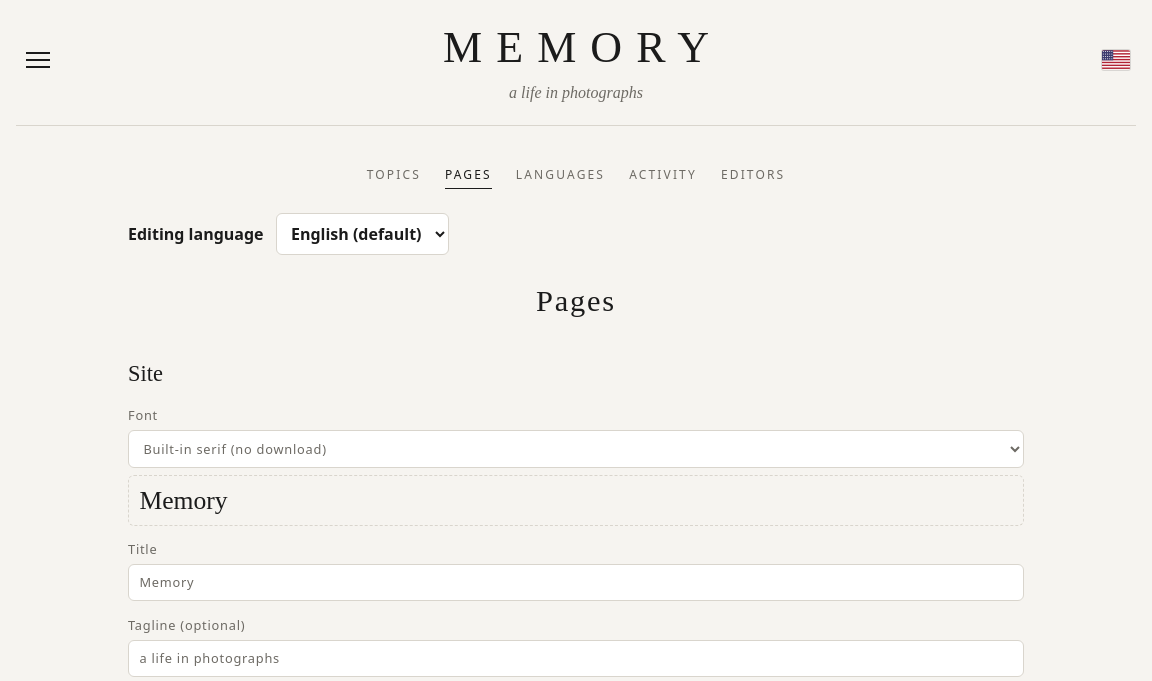
Test: languages › keeps a saved font this language would not offer, and clears it to the built-in serif
The image size is (1152, 681).
Expected: the navigation bar named "Back office" is shown, [367,166,785,189]
Select "עברית" in the dropdown labelled "Editing language": x=362, y=234 [276,213,449,255]
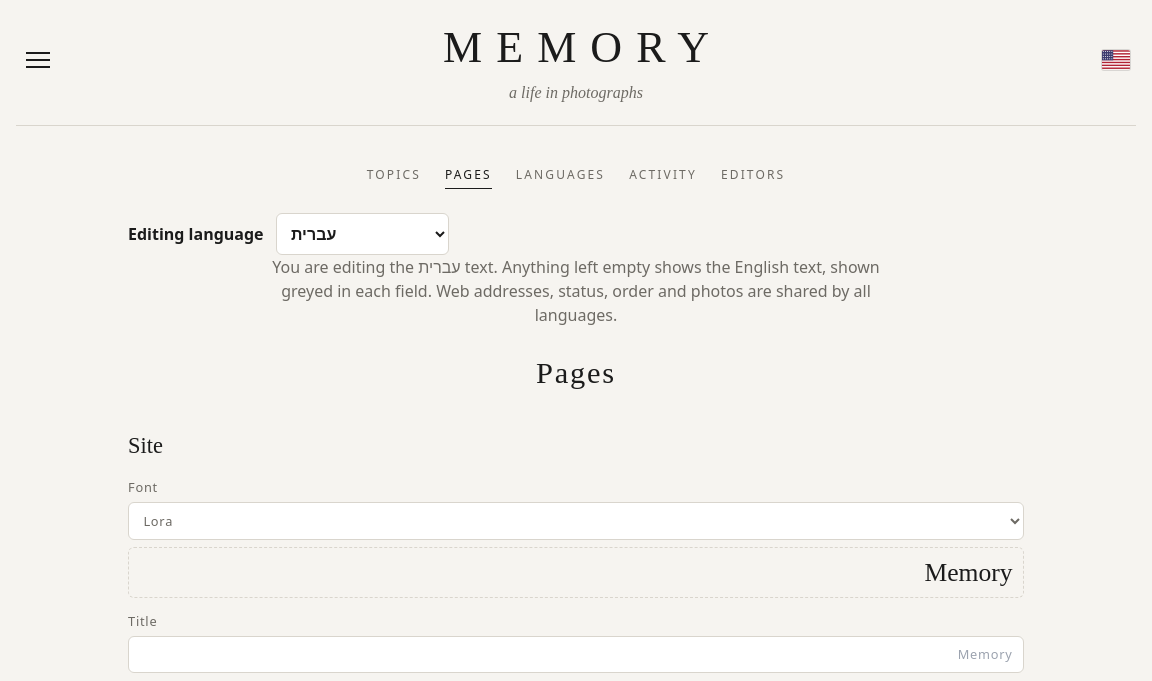
Expected: the dropdown labelled "Font" shows "Lora"
Select "Built-in serif (no download)" in the dropdown labelled "Font": x=576, y=521 [128,502,1024,540]
(page scrolled)
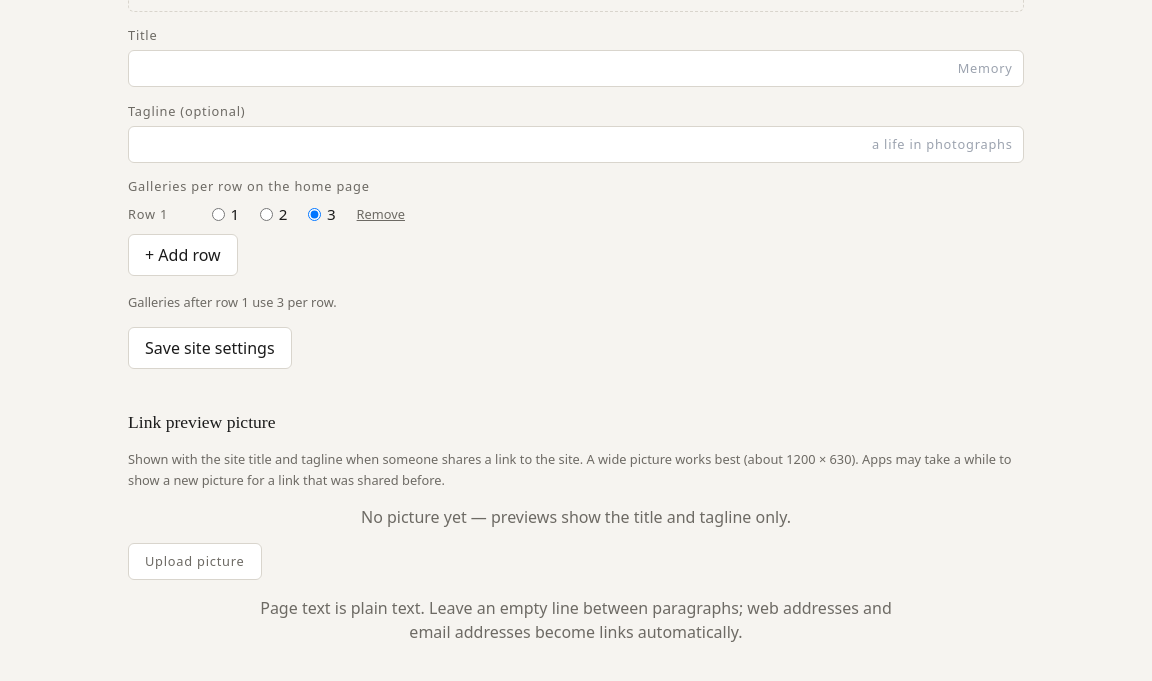
Click the button "Save site settings": x=210, y=348 [128,327,292,369]
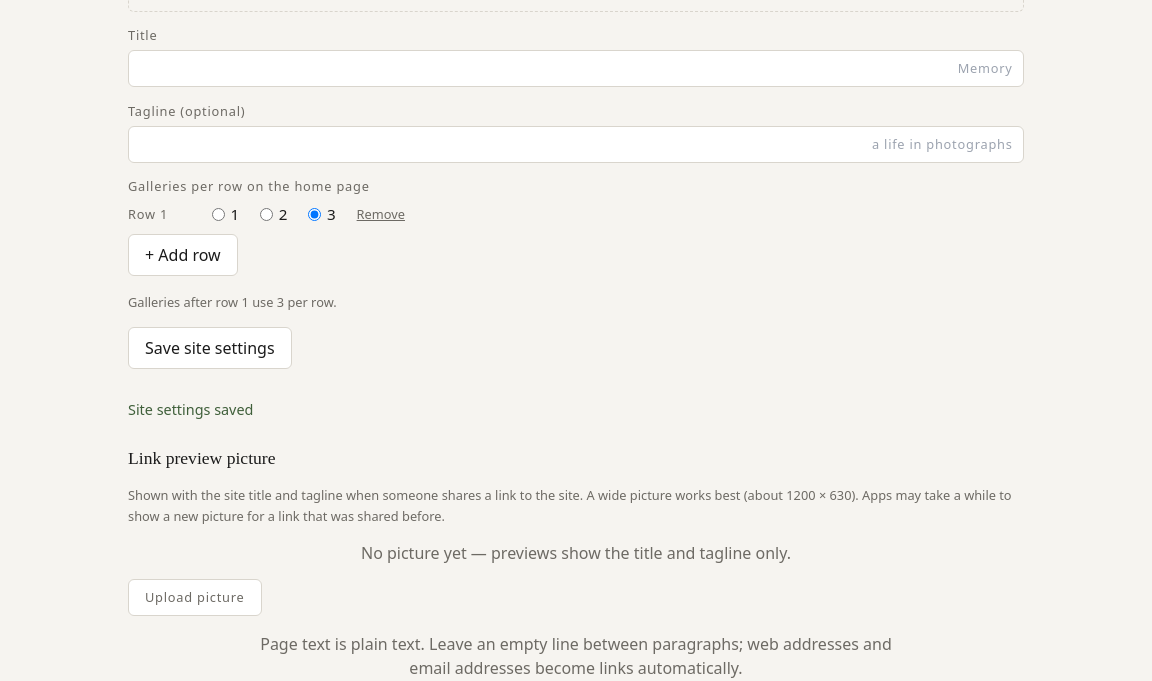
Expected: the message reads "Site settings saved", [128,400,253,419]
